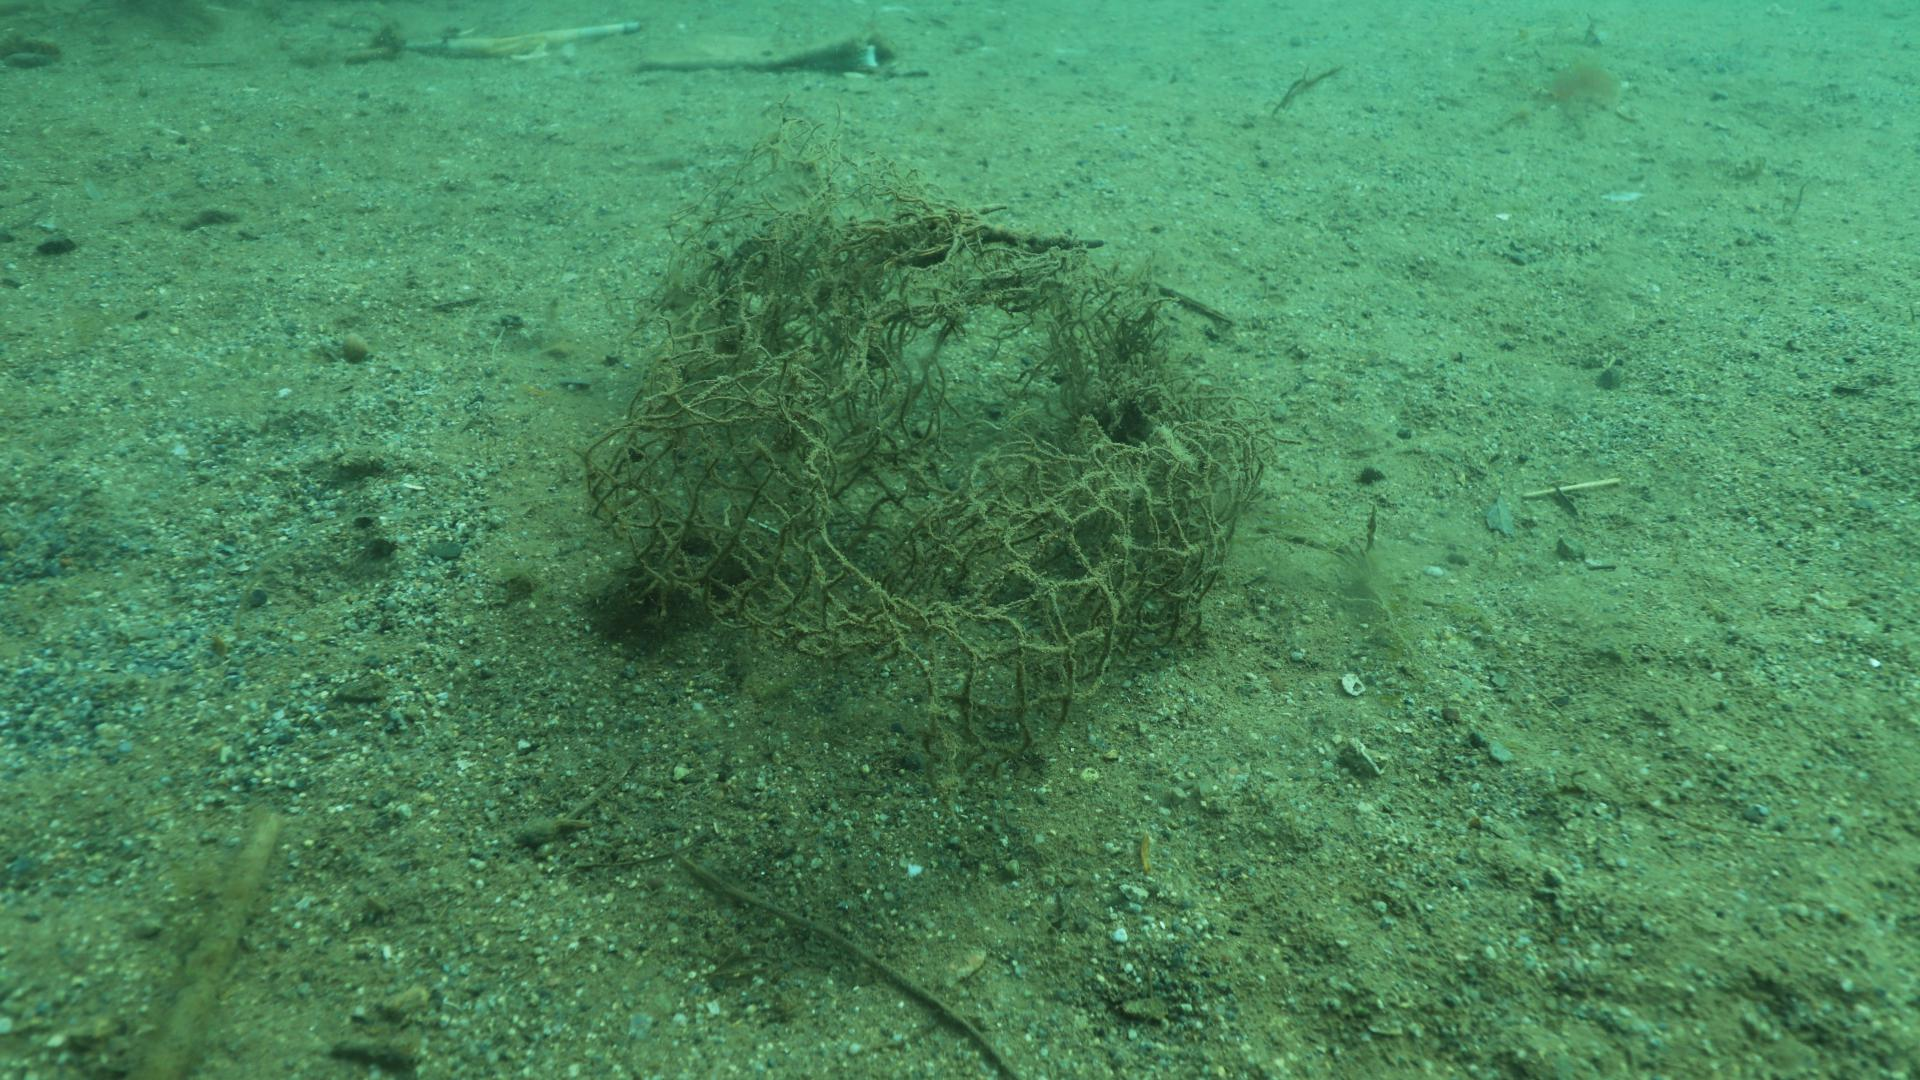fish net: (580, 382, 1282, 731)
